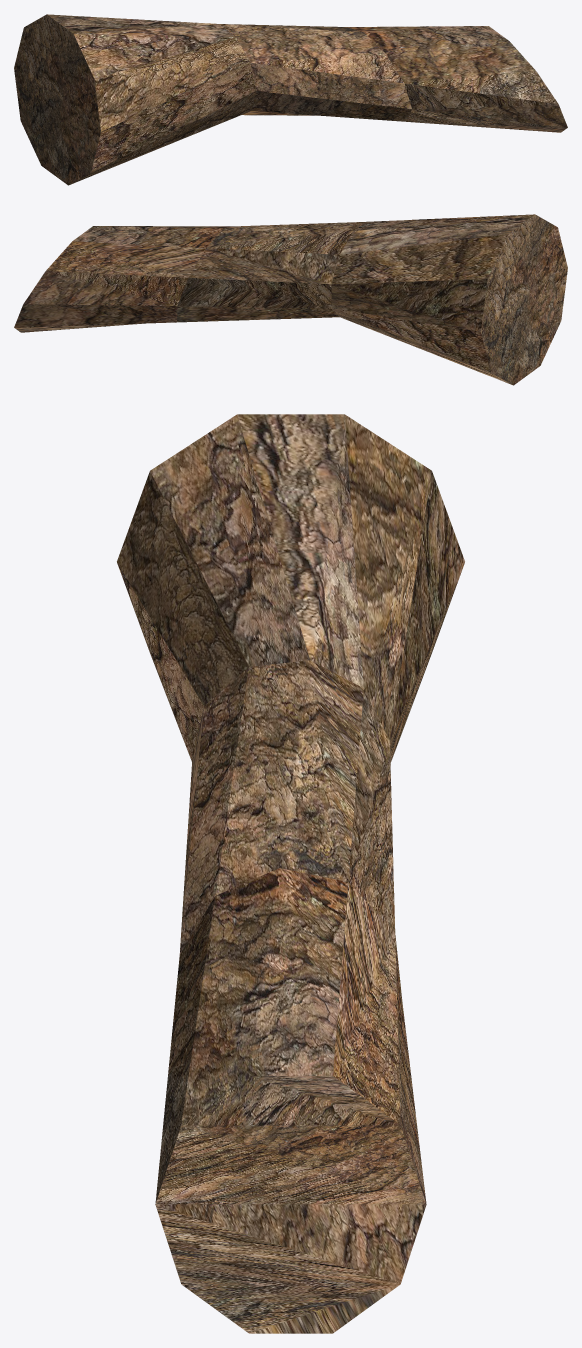
File: upperarm1.glb
3 views of the same model, one above another, from view 1: azimuth 30°, elevation 25°; view 2: azimuth 150°, elevation 25°; view 3: azimuth 270°, elevation 25° (orthographic). The views are drawn at different scales.
Visible parts, largest first — view 1: Cylinder; view 2: Cylinder; view 3: Cylinder.
Boxes of the visible parts, left/top/right/bottom form: Cylinder: left=14, top=14, right=567, bottom=185; Cylinder: left=14, top=214, right=567, bottom=385; Cylinder: left=117, top=414, right=464, bottom=1333.
Size of what is drawn, in the model's own units: 7.5 by 3.19 by 2.28.
Materials: 1 (1 with a texture image).
